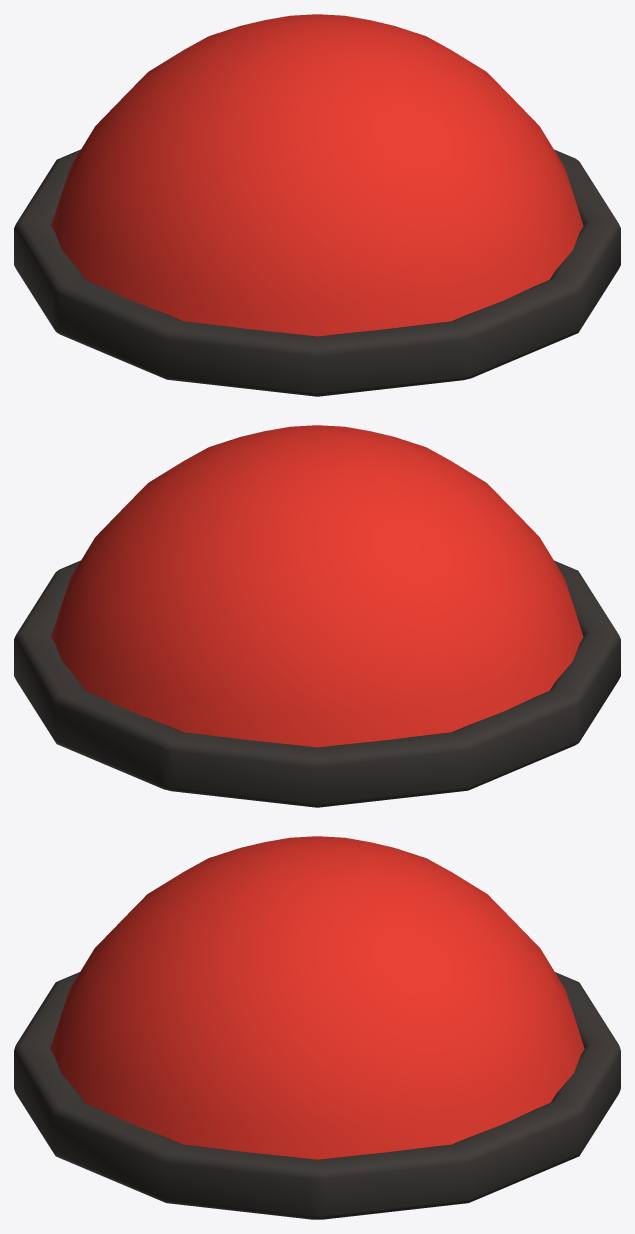
The model's file is SM_bouton_switch.fbx.
3 views of the same model, one above another, from view 1: azimuth 30°, elevation 25°; view 2: azimuth 150°, elevation 25°; view 3: azimuth 270°, elevation 25° (orthographic).
Visible parts, largest first — view 1: Sphere.002, Cylinder.003; view 2: Sphere.002, Cylinder.003; view 3: Sphere.002, Cylinder.003.
Part boxes in pixels (<box>): Sphere.002: <box>51,14,583,336</box>; Cylinder.003: <box>14,149,620,396</box>; Sphere.002: <box>51,425,583,747</box>; Cylinder.003: <box>14,560,620,807</box>; Sphere.002: <box>50,836,584,1159</box>; Cylinder.003: <box>14,972,620,1219</box>.
Bounding box in the file's own units: 85.94 × 36.15 × 85.94.
